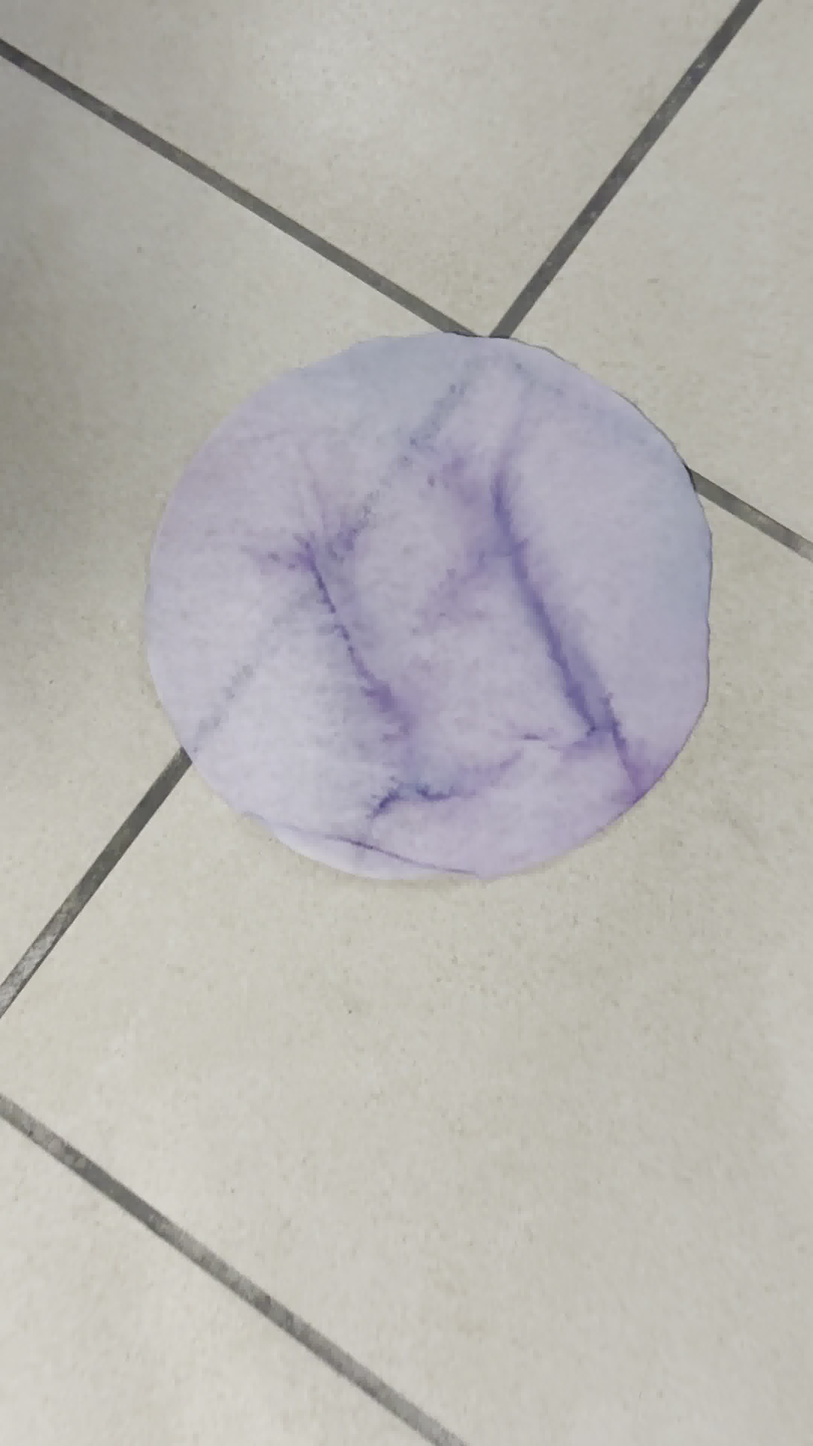Target: (140, 331, 715, 884)
